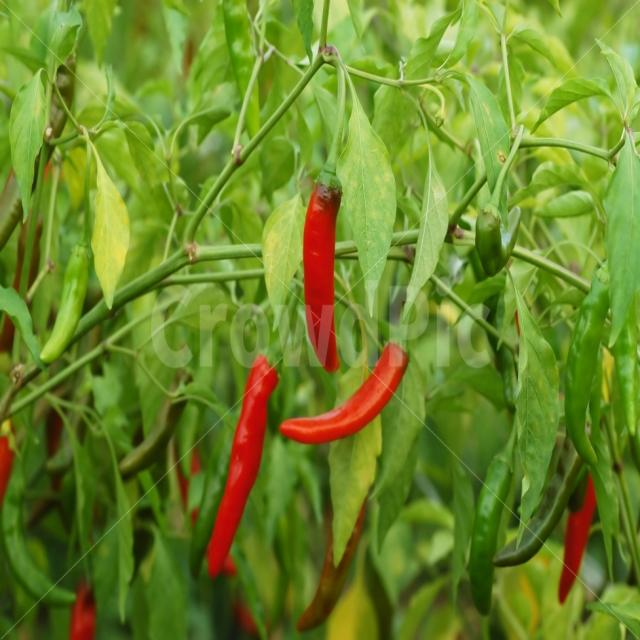chili: (208, 355, 278, 577), (280, 342, 408, 442), (302, 135, 341, 371)
